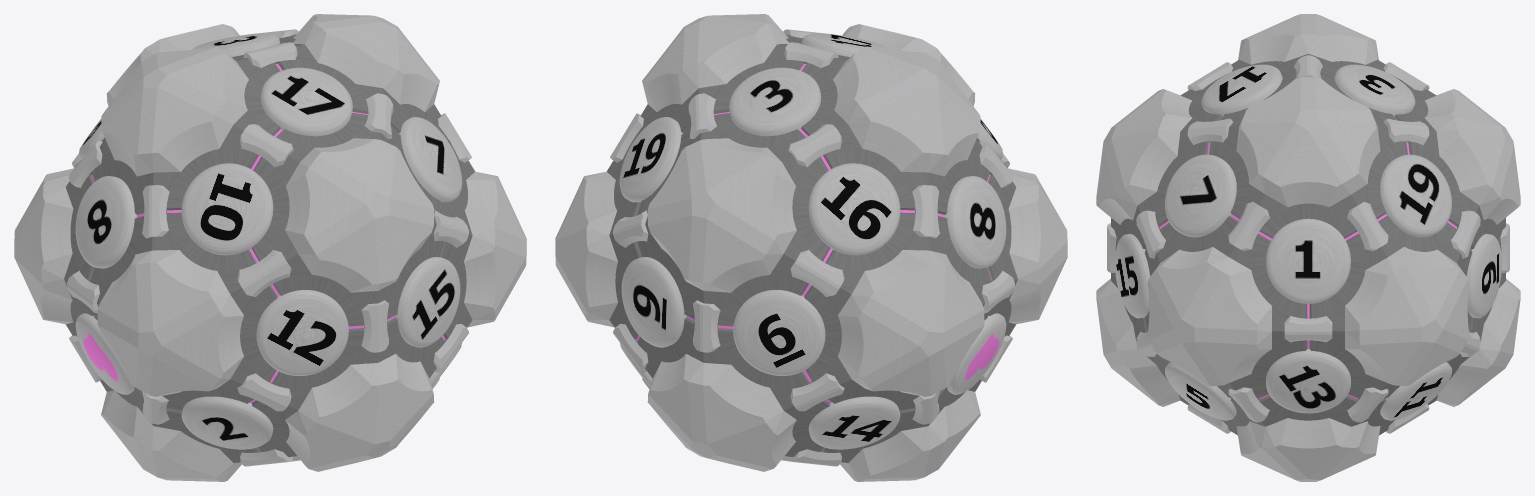
File: gem_d20.glb
3 views of the same model, side by side, from view 1: azimuth 30°, elevation 25°; view 2: azimuth 150°, elevation 25°; view 3: azimuth 270°, elevation 25° (orthographic). The views are drawn at different scales.
Parts seen in each view (by area): view 1: d20_heart.001; view 2: d20_heart.001; view 3: d20_heart.001.
Part boxes in pixels (x1=…): d20_heart.001: x1=14, y1=14, x2=526, y2=481; d20_heart.001: x1=555, y1=14, x2=1067, y2=481; d20_heart.001: x1=1096, y1=14, x2=1520, y2=481.
Bounding box in the file's own units: 170 × 170 × 170.
Materials: 1 (1 with a texture image).
